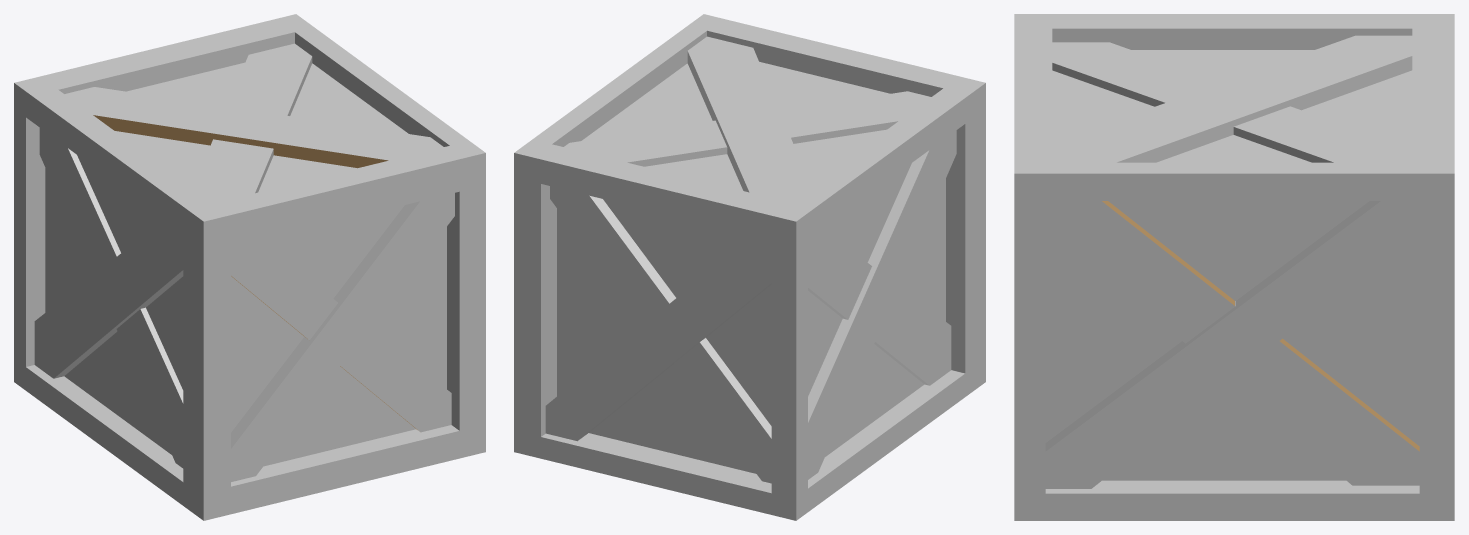
The picture shows the model from 3 angles, left to right: view 1: azimuth 30°, elevation 25°; view 2: azimuth 150°, elevation 25°; view 3: azimuth 270°, elevation 25°; orthographic projection. The views are drawn at different scales.
Visible parts, largest first — view 1: SketchUp, SketchUp_001, SketchUp_006, SketchUp_004, SketchUp_030, SketchUp_028, SketchUp_029, SketchUp_027, SketchUp_009, SketchUp_013, SketchUp_035, SketchUp_036 (+5 smaller); view 2: SketchUp, SketchUp_005, SketchUp_006, SketchUp_004, SketchUp_020, SketchUp_018, SketchUp_017, SketchUp_019, SketchUp_035, SketchUp_009, SketchUp_014, SketchUp_012 (+4 smaller); view 3: SketchUp, SketchUp_003, SketchUp_004, SketchUp_022, SketchUp_023, SketchUp_016, SketchUp_010, SketchUp_011, SketchUp_034, SketchUp_033, SketchUp_035, SketchUp_026 (+1 smaller).
Boxes of the visible parts, x1,y1,x2,y2 form: SketchUp: [14, 14, 485, 520]; SketchUp_001: [231, 191, 459, 486]; SketchUp_006: [26, 117, 183, 481]; SketchUp_004: [58, 32, 449, 203]; SketchUp_030: [369, 227, 446, 388]; SketchUp_028: [263, 366, 415, 466]; SketchUp_029: [231, 276, 304, 432]; SketchUp_027: [260, 205, 404, 298]; SketchUp_009: [64, 331, 171, 454]; SketchUp_013: [45, 168, 92, 312]; SketchUp_035: [290, 63, 408, 133]; SketchUp_036: [93, 115, 388, 168]; SketchUp: [514, 14, 985, 520]; SketchUp_005: [541, 184, 771, 493]; SketchUp_006: [808, 124, 965, 488]; SketchUp_004: [552, 30, 942, 201]; SketchUp_020: [557, 209, 643, 395]; SketchUp_018: [589, 363, 756, 473]; SketchUp_017: [603, 199, 751, 297]; SketchUp_019: [706, 284, 771, 425]; SketchUp_035: [582, 63, 712, 140]; SketchUp_009: [825, 344, 924, 456]; SketchUp_014: [899, 179, 945, 321]; SketchUp_012: [822, 163, 911, 262]; SketchUp: [1014, 14, 1454, 520]; SketchUp_003: [1045, 201, 1419, 493]; SketchUp_004: [1052, 28, 1412, 162]; SketchUp_022: [1045, 225, 1181, 442]; SketchUp_023: [1283, 231, 1419, 445]; SketchUp_016: [1108, 201, 1369, 300]; SketchUp_010: [1102, 381, 1345, 480]; SketchUp_011: [1302, 70, 1412, 149]; SketchUp_034: [1052, 70, 1154, 142]; SketchUp_033: [1132, 50, 1314, 82]; SketchUp_035: [1157, 135, 1311, 162]; SketchUp_026: [1280, 338, 1419, 451].
Bounding box in the file's own units: 2.29 × 2.32 × 2.67.
